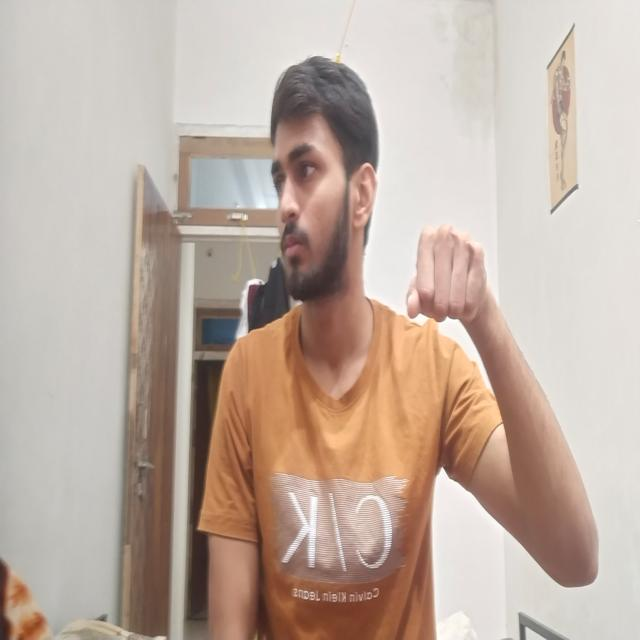yes: (394, 188, 508, 394)
